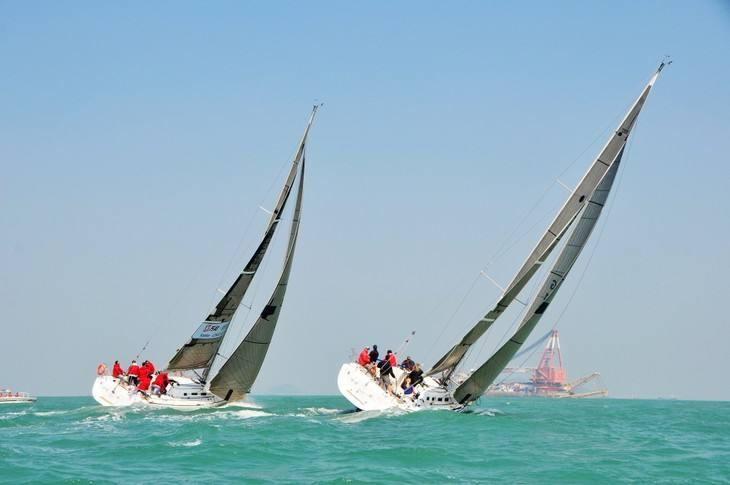fanchuan: (337, 57, 684, 412), (90, 101, 335, 411)
